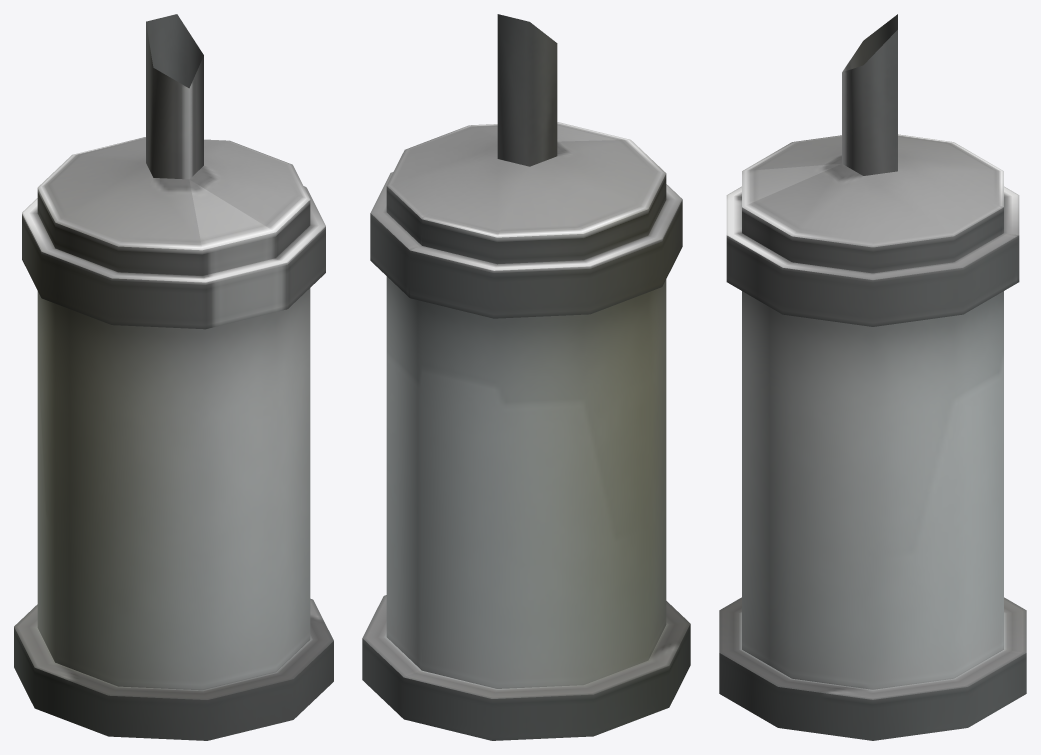
Rendered from SugarShaker.fbx.
3 views of the same model, side by side, from view 1: azimuth 30°, elevation 25°; view 2: azimuth 150°, elevation 25°; view 3: azimuth 270°, elevation 25° (orthographic). The views are drawn at different scales.
Visible parts, largest first — view 1: SugarShaker2; view 2: SugarShaker2; view 3: SugarShaker2.
Boxes of the visible parts, box(x1,y1,x2,y2) form: SugarShaker2: box(14, 14, 333, 740); SugarShaker2: box(362, 14, 690, 740); SugarShaker2: box(719, 14, 1026, 740).
Bounding box in the file's own units: 3.75 × 8.32 × 3.56.
